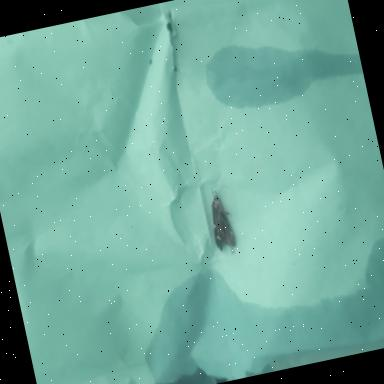pbw: (204, 180, 242, 256)
